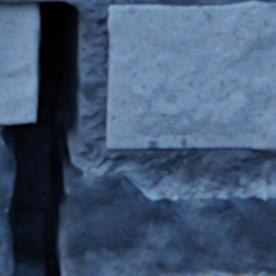brick: (106, 1, 275, 149), (0, 2, 39, 123)
broken_brick: (59, 167, 275, 275), (0, 144, 15, 275)
crack: (0, 1, 80, 275)
